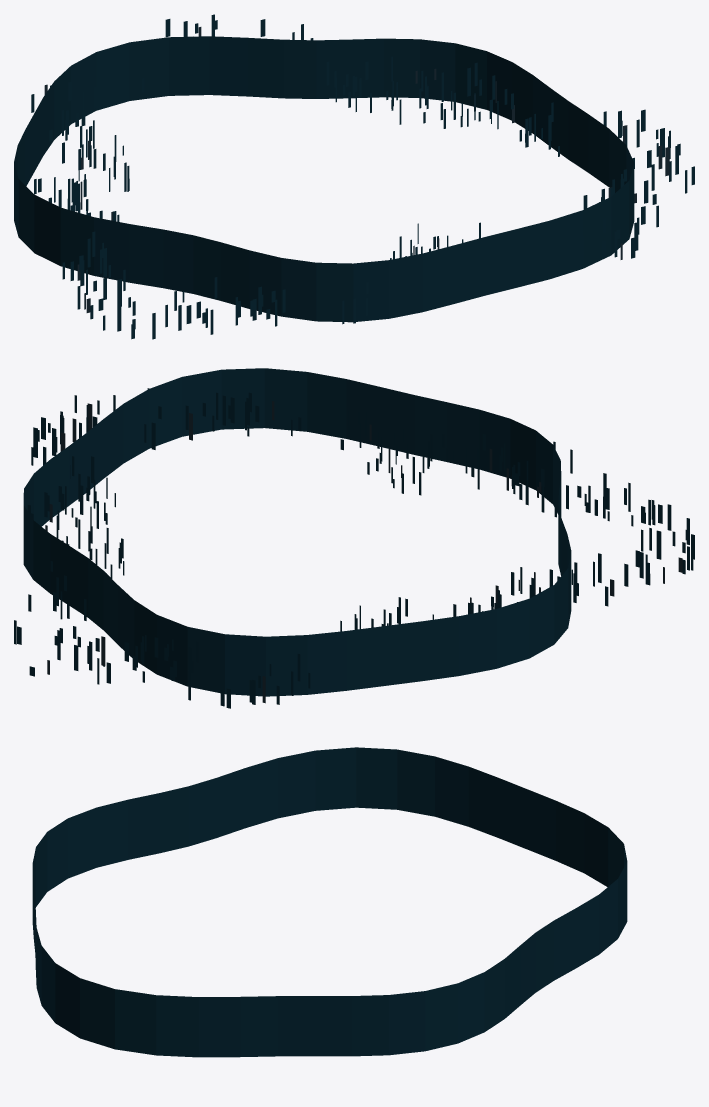
The model's file is horizon_band.glb.
3 views of the same model, one above another, from view 1: azimuth 30°, elevation 25°; view 2: azimuth 150°, elevation 25°; view 3: azimuth 270°, elevation 25° (orthographic). The views are drawn at different scales.
Parts seen in each view (by area): view 1: horizon_mist, horizon_streaks; view 2: horizon_mist, horizon_streaks; view 3: horizon_mist.
Boxes of the visible parts, <box> form: horizon_mist: <box>14,36,634,322</box>; horizon_streaks: <box>31,14,694,339</box>; horizon_mist: <box>23,368,571,696</box>; horizon_streaks: <box>14,388,694,708</box>; horizon_mist: <box>32,747,627,1057</box>.
Bounding box in the file's own units: 133 × 12 × 123.
